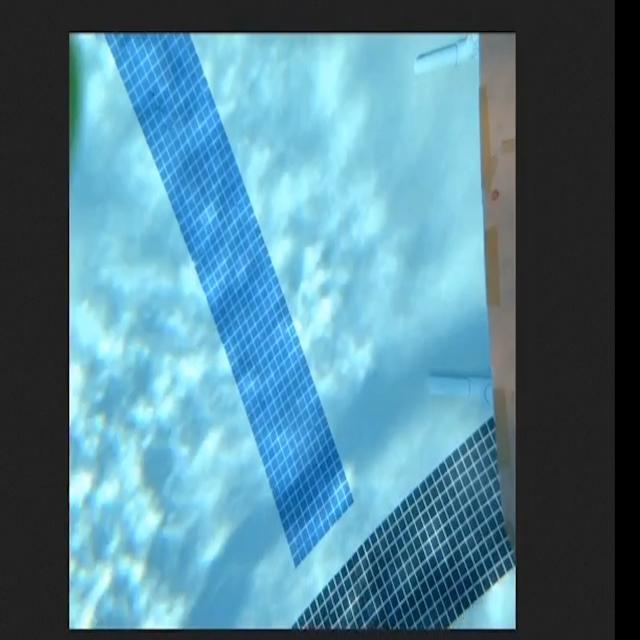Path: (478, 29, 518, 544)
